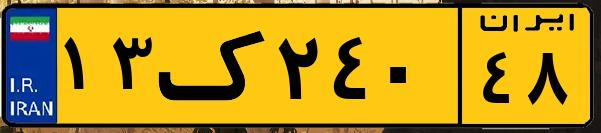0: (385, 28, 445, 110)
1: (57, 26, 110, 100)
2: (270, 28, 330, 110)
3: (110, 28, 158, 98)
4: (330, 28, 385, 110), (475, 38, 525, 113)
8: (525, 38, 570, 115)
ک: (158, 12, 270, 120)
